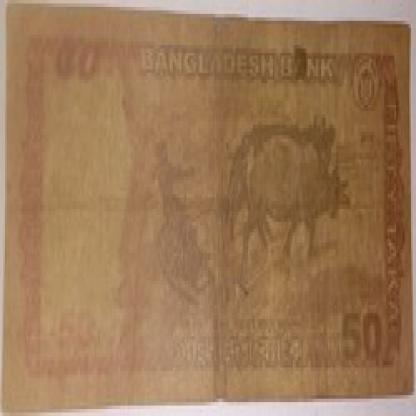Fifty taka: (38, 31, 92, 104), (338, 301, 384, 378)
